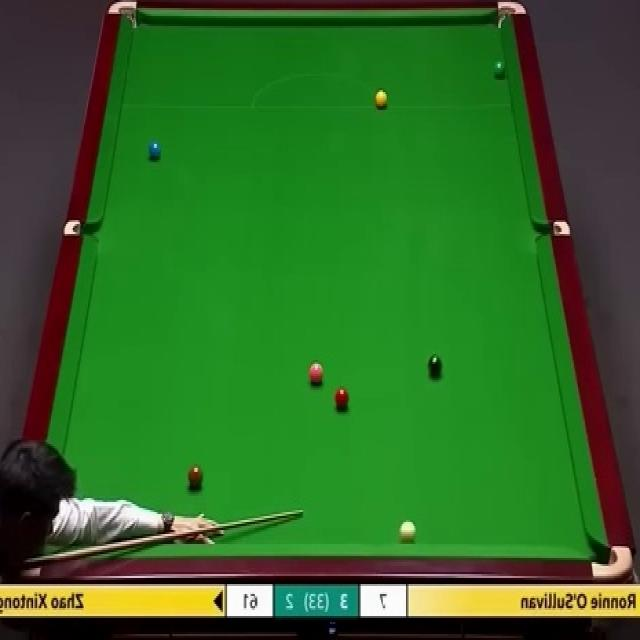pocket: (589, 545, 635, 583), (108, 0, 140, 32), (493, 0, 528, 29), (536, 220, 572, 237), (64, 220, 99, 235)
